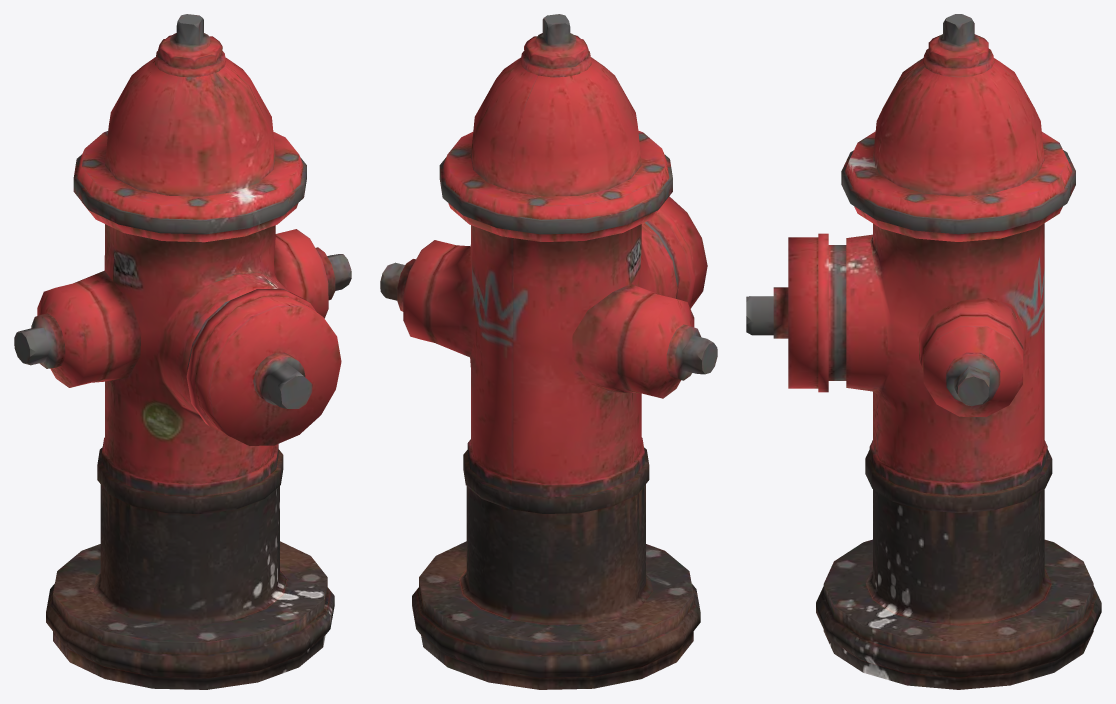
File: fire-hydrant.glb
The picture shows the model from 3 angles, left to right: view 1: azimuth 30°, elevation 25°; view 2: azimuth 150°, elevation 25°; view 3: azimuth 270°, elevation 25°; orthographic projection.
Visible parts, largest first — view 1: Hydrant_low; view 2: Hydrant_low; view 3: Hydrant_low.
Boxes of the visible parts, x1,y1,x2,y2 form: Hydrant_low: (14, 14, 351, 689); Hydrant_low: (380, 14, 717, 689); Hydrant_low: (746, 14, 1101, 689).
Bounding box in the file's own units: 0.3984 × 0.75 × 0.3821.
1 material, 1 textured.
